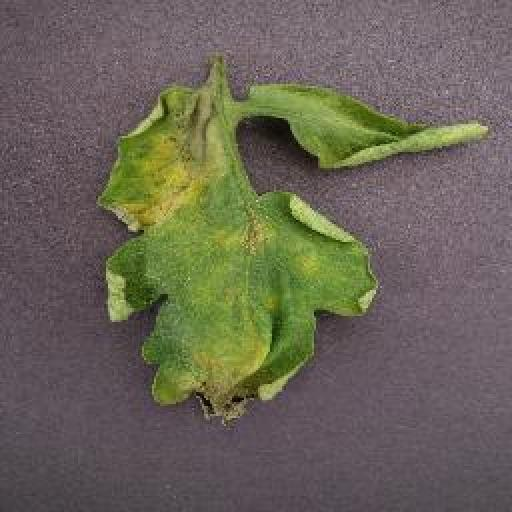disease_tomato: (100, 74, 490, 424)
